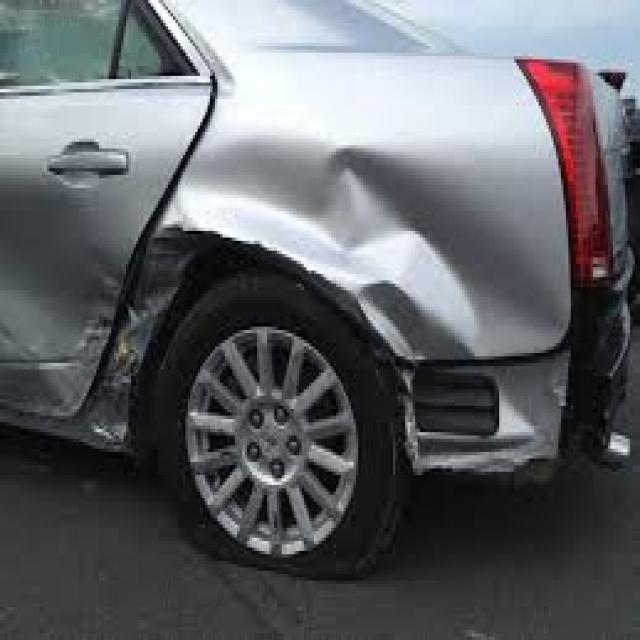minor: (72, 198, 580, 497)
